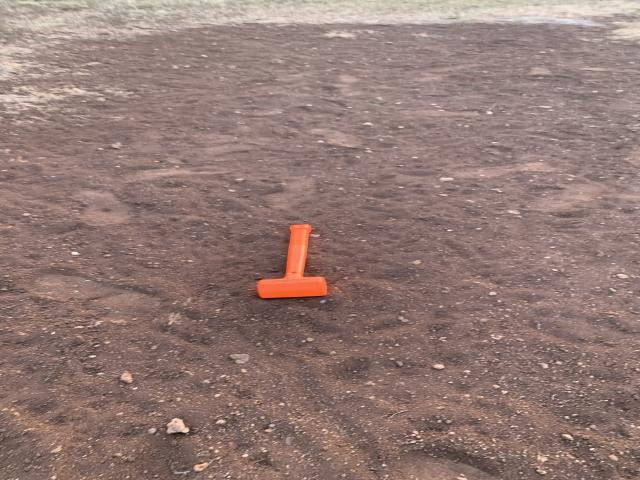hammer: (256, 224, 327, 299)
